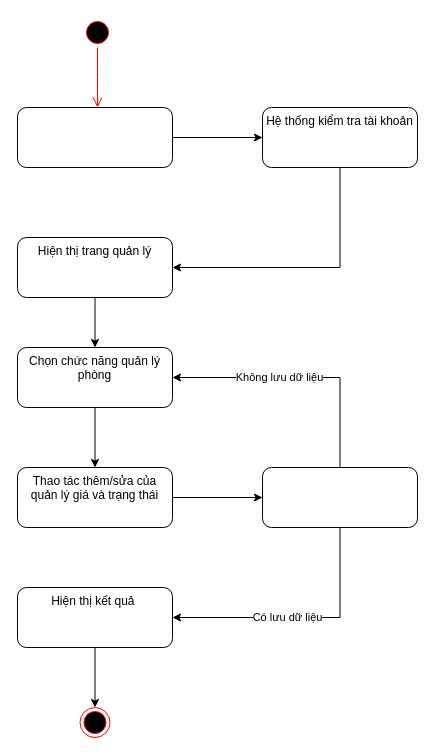
Image size: 435x755. Some labels were removed from this diagram. The shapes that lost their labels are listed below. From the top down, each one's box as (x1, y1, x2, y2) in pixels, then its label:
(16, 106, 172, 168): Quản trị viên đăng nhập
(262, 466, 418, 528): Kiểm tra dữ liệu
